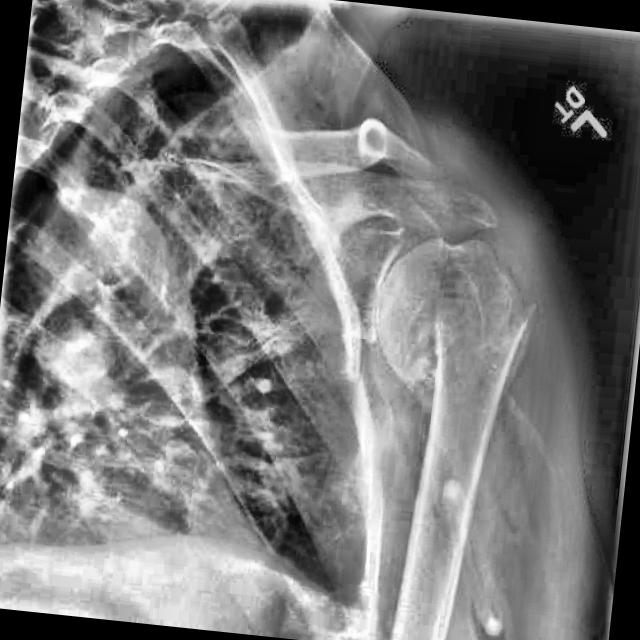shoulder fracture: (411, 286, 543, 384)
